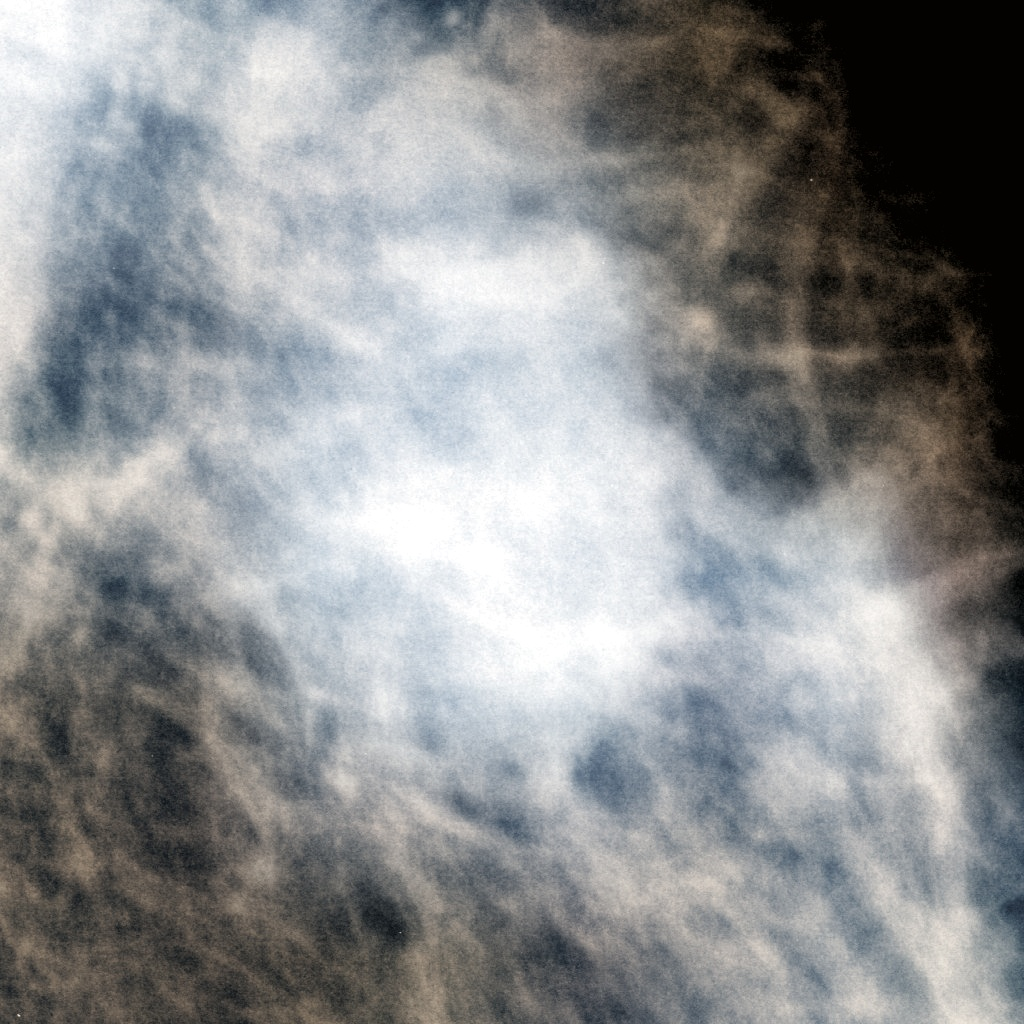tumor: (195, 147, 829, 877)
